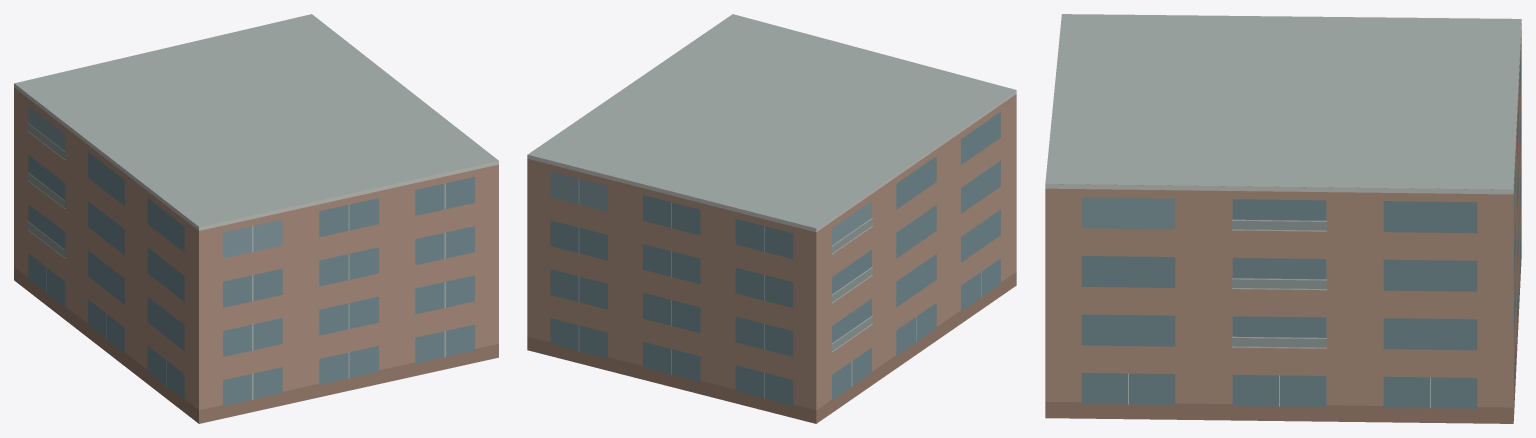
File: survey-upis-32565005.glb
3 renders of one model, left to right at view 1: azimuth 30°, elevation 25°; view 2: azimuth 150°, elevation 25°; view 3: azimuth 270°, elevation 25°, orthographic. The views are drawn at different scales.
Parts seen in each view (by area): view 1: survey-upis-32565005.tmp; view 2: survey-upis-32565005.tmp; view 3: survey-upis-32565005.tmp.
Boxes of the visible parts, <box> form: survey-upis-32565005.tmp: <box>14,14,498,423</box>; survey-upis-32565005.tmp: <box>527,14,1016,423</box>; survey-upis-32565005.tmp: <box>1045,14,1521,423</box>.
Bounding box in the file's own units: 19.31 × 12 × 22.13.
